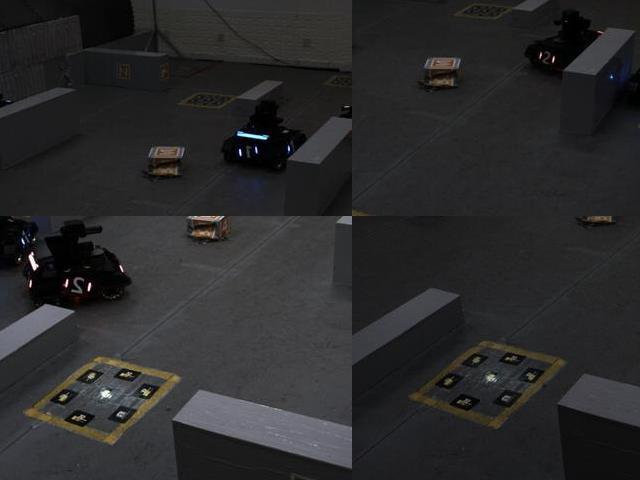armor: (61, 273, 99, 298), (235, 141, 263, 164), (535, 47, 557, 68), (281, 138, 298, 158)
